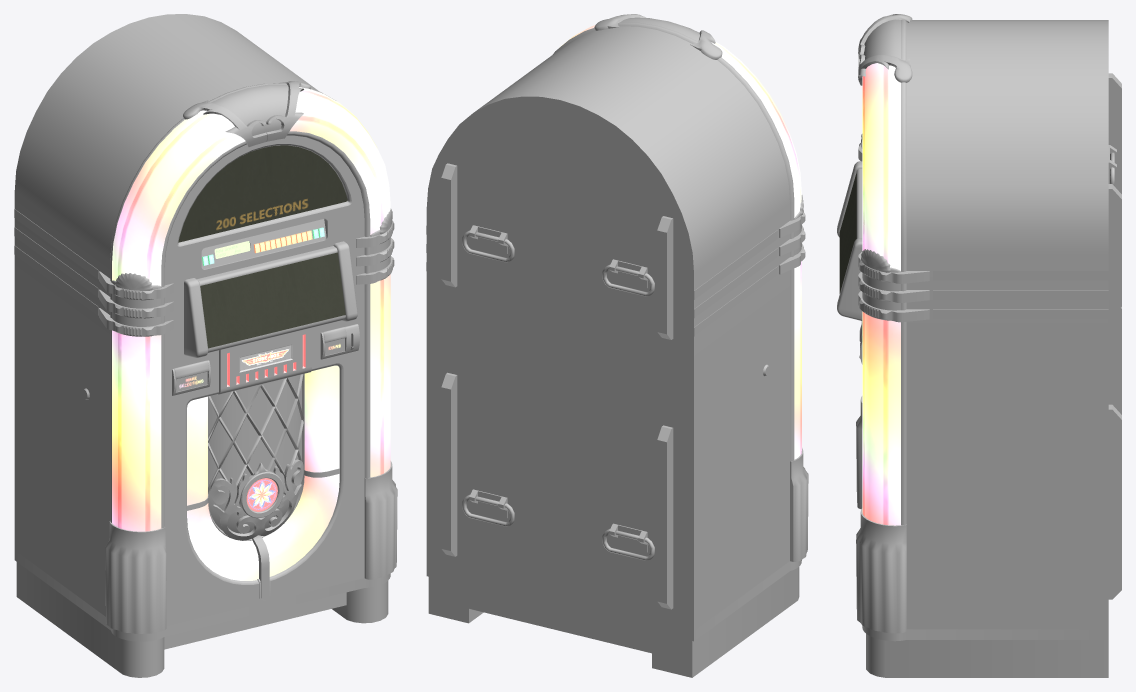
Rendered from Jukebox_01.fbx.
3 renders of one model, left to right at view 1: azimuth 30°, elevation 25°; view 2: azimuth 150°, elevation 25°; view 3: azimuth 270°, elevation 25°, orthographic. The views are drawn at different scales.
Parts seen in each view (by area): view 1: Vintage_Jukebox; view 2: Vintage_Jukebox; view 3: Vintage_Jukebox.
Part boxes in pixels (x1,y1,x2,y2): Vintage_Jukebox: (14,14,397,677); Vintage_Jukebox: (426,14,808,677); Vintage_Jukebox: (837,14,1121,677).
Size of the model in its own units: 86.11 by 159 by 71.23.
